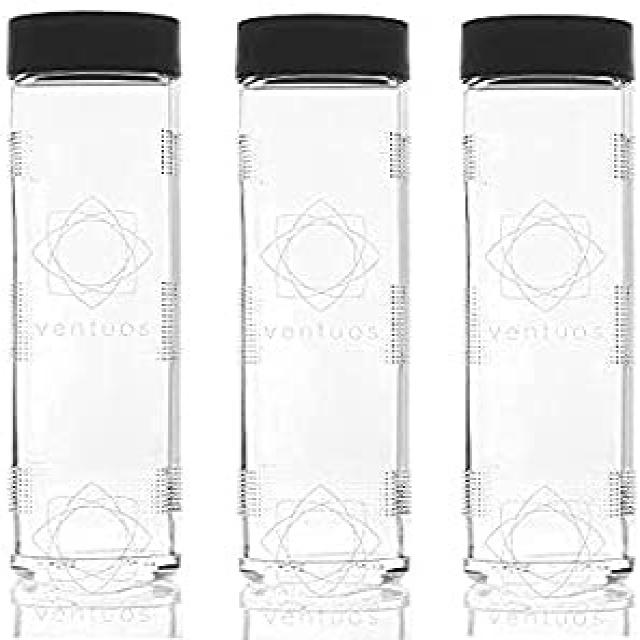plastic_bottle: (459, 13, 638, 589)
